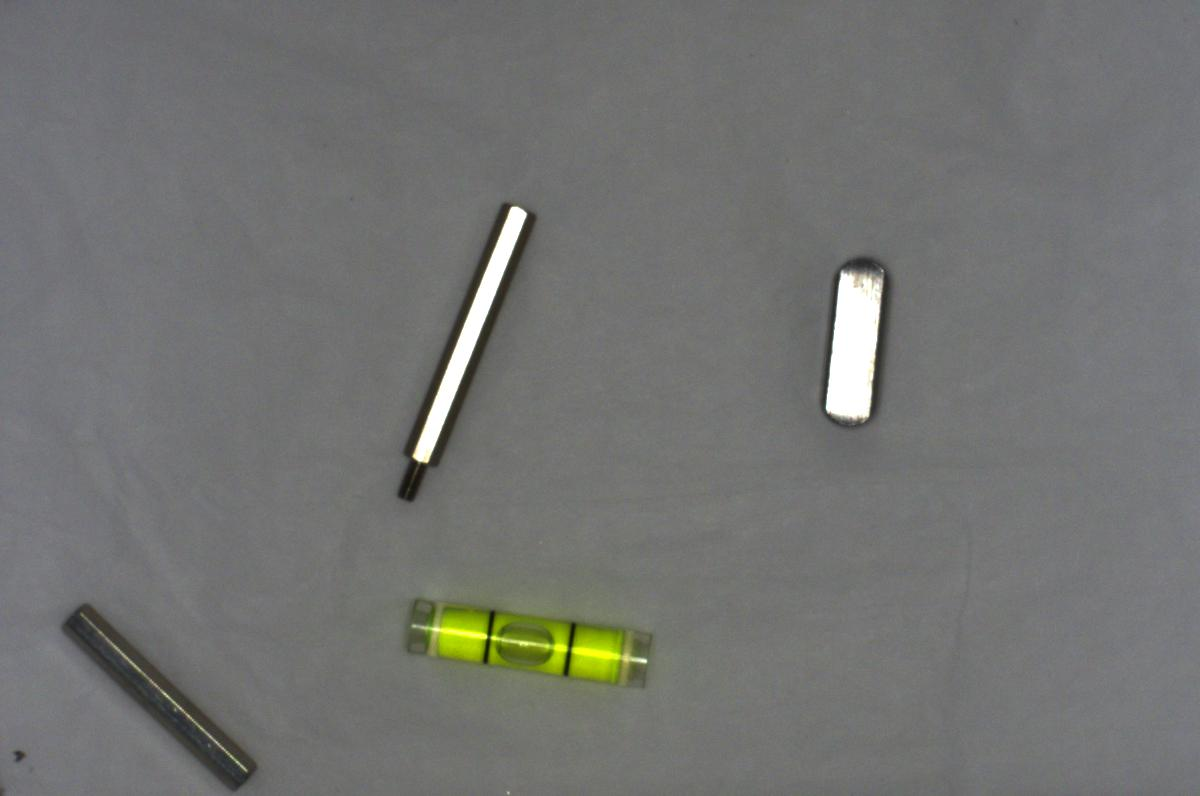Double hexagonal column: (61, 593, 267, 794)
Hexagonal steel column: (390, 193, 538, 501)
Horizontal bubble: (390, 588, 654, 693)
Keybar: (822, 253, 897, 433)
